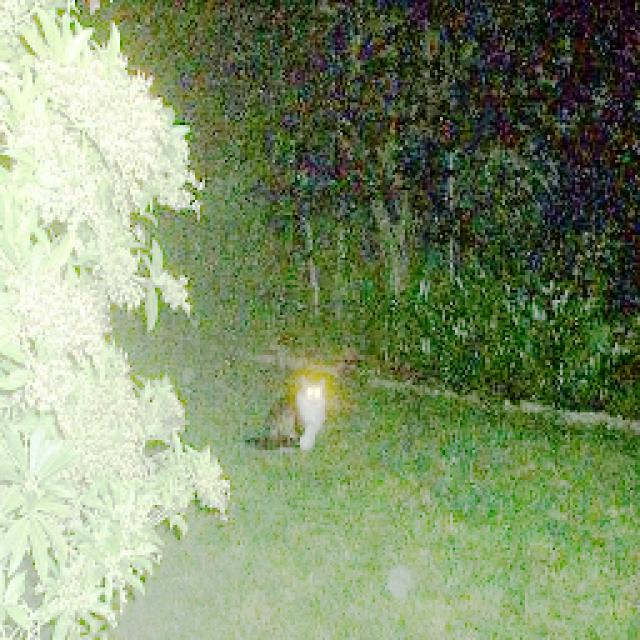cat: (243, 373, 331, 457)
